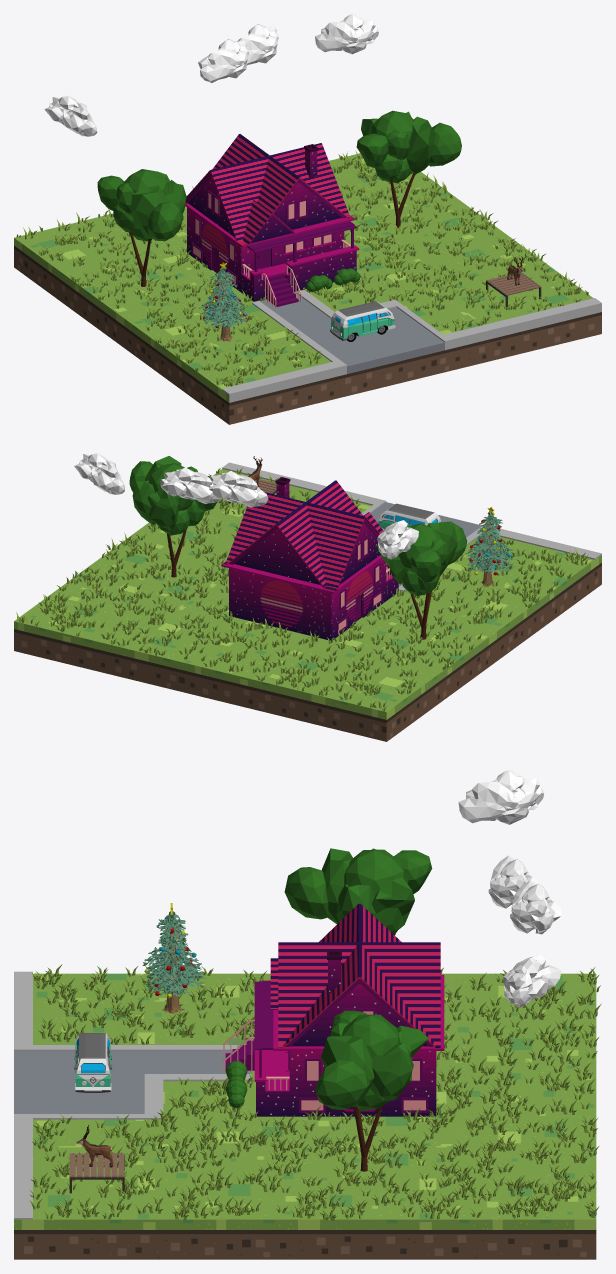
The picture shows the model from 3 angles, top to bottom: view 1: azimuth 30°, elevation 25°; view 2: azimuth 150°, elevation 25°; view 3: azimuth 270°, elevation 25°; orthographic projection. The views are drawn at different scales.
Visible parts, largest first — view 1: Cube.006, Cube.156, Circle.012_Grass_0.192, Cube.007, tree, tree.001, OBJRANDOM_CHRISTMAS_TREE, VEHICLES_VAN, Cube.009; view 2: Cube.006, Cube.156, Circle.012_Grass_0.192, Cube.007, tree.001, tree, OBJRANDOM_CHRISTMAS_TREE, VEHICLES_VAN; view 3: Cube.006, Circle.012_Grass_0.192, Cube.156, tree, Cube.007, tree.001, OBJRANDOM_CHRISTMAS_TREE, VEHICLES_VAN, Cube.009.
Boxes of the visible parts, x1,y1,x2,y2 form: Cube.006: (14,153,601,424); Cube.156: (185,134,359,308); Circle.012_Grass_0.192: (16,150,588,386); Cube.007: (44,14,378,136); tree: (356,110,461,228); tree.001: (97,169,186,286); OBJRANDOM_CHRISTMAS_TREE: (199,262,249,341); VEHICLES_VAN: (330,301,395,341); Cube.009: (486,272,541,306); Cube.006: (14,462,601,741); Cube.156: (221,477,398,640); Circle.012_Grass_0.192: (16,468,588,711); Cube.007: (74,453,418,559); tree.001: (375,521,467,639); tree: (129,456,216,577); OBJRANDOM_CHRISTMAS_TREE: (465,506,512,587); VEHICLES_VAN: (378,503,441,530); Cube.006: (14,971,596,1259); Circle.012_Grass_0.192: (29,964,601,1220); Cube.156: (223,903,444,1116); tree: (315,1010,428,1171); Cube.007: (458,770,561,1007); tree.001: (284,848,432,935); OBJRANDOM_CHRISTMAS_TREE: (142,903,205,1014); VEHICLES_VAN: (74,1033,112,1092); Cube.009: (69,1153,124,1193).
Bounding box in the file's own units: 4071 × 2277 × 4040.
Materials: 37 (5 with a texture image).
